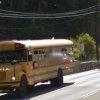Bus: (4, 34, 77, 92)
